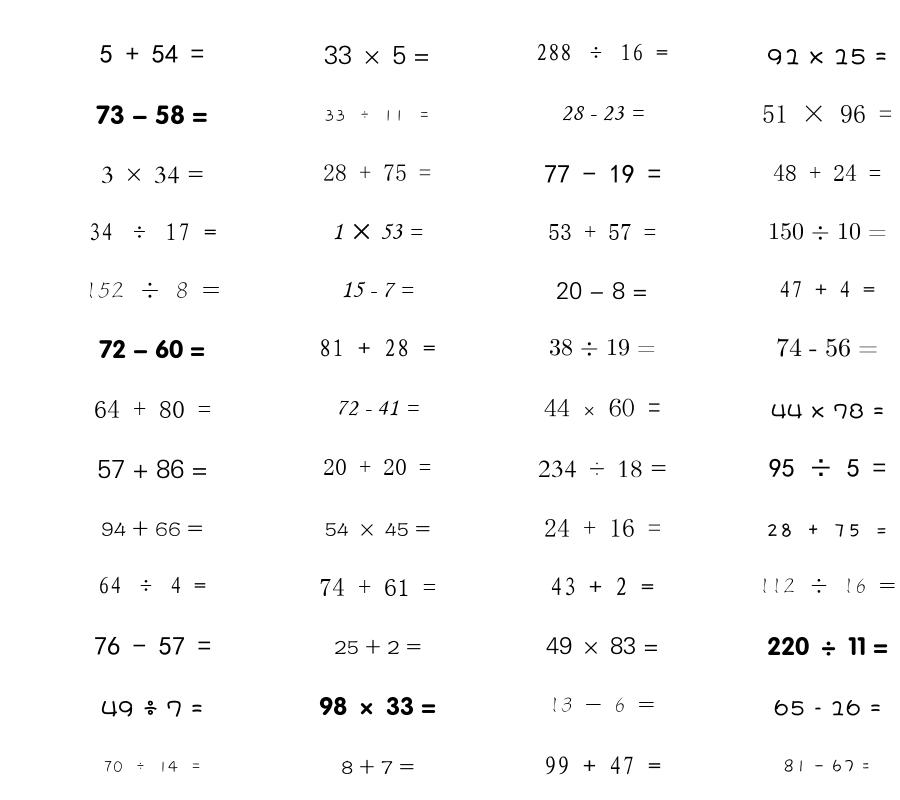MQ: (762, 104, 892, 123), (767, 636, 888, 656), (536, 43, 668, 61), (319, 696, 436, 716), (88, 223, 217, 241), (538, 460, 667, 478), (85, 282, 220, 299), (96, 105, 208, 125), (544, 164, 661, 183), (544, 398, 661, 417), (769, 458, 886, 477), (544, 518, 661, 537), (94, 636, 211, 655), (544, 756, 661, 775), (97, 459, 208, 479), (759, 578, 896, 594), (768, 222, 887, 240), (324, 45, 430, 65), (99, 339, 205, 359), (319, 339, 436, 357), (94, 400, 211, 418), (319, 578, 436, 596), (767, 48, 887, 65), (546, 637, 659, 655), (100, 44, 204, 63), (550, 577, 654, 596), (98, 576, 206, 594), (776, 338, 878, 357), (549, 338, 656, 356), (101, 166, 204, 184), (323, 164, 431, 181), (773, 164, 881, 181), (774, 699, 881, 716), (771, 403, 884, 419), (101, 520, 203, 537), (101, 700, 203, 717), (548, 224, 656, 240), (779, 280, 875, 298), (323, 459, 431, 475), (766, 523, 888, 537), (549, 697, 655, 713), (556, 282, 648, 300), (325, 522, 430, 537), (332, 223, 423, 240), (334, 639, 421, 655), (336, 400, 419, 416), (324, 110, 431, 122), (561, 106, 644, 121), (341, 281, 414, 298), (783, 759, 871, 773), (103, 761, 202, 773), (341, 759, 414, 775)
